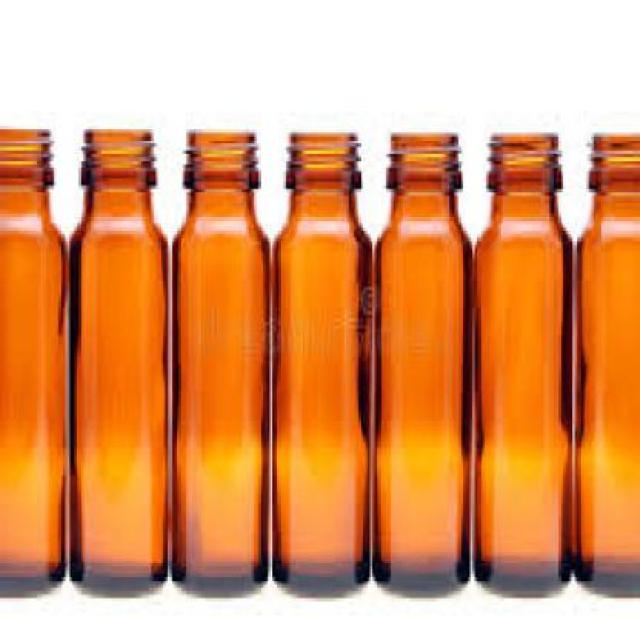kaca: (68, 126, 168, 594), (472, 129, 572, 591), (169, 126, 268, 591), (272, 129, 371, 591), (372, 129, 468, 591), (0, 125, 66, 592), (572, 130, 638, 596)
